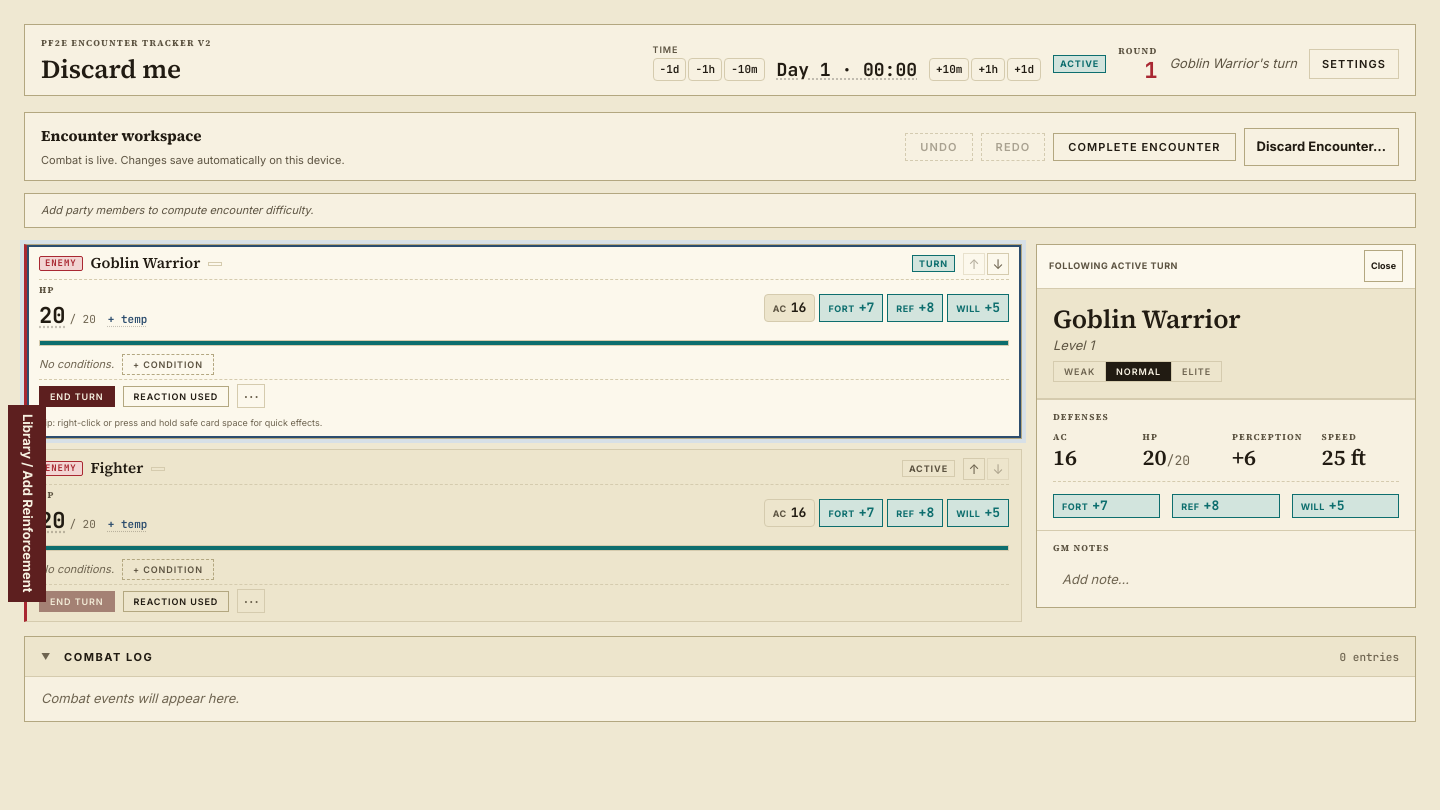
it: encounter discard flow › confirmed discard resets the active state and clears active persistence
Check: the heading "Discard me" is shown, box x1=41 y1=50 x2=181 y2=86
Step 1. Click the button "Discard Encounter…" → (1321, 147), box x1=1244 y1=128 x2=1399 y2=166
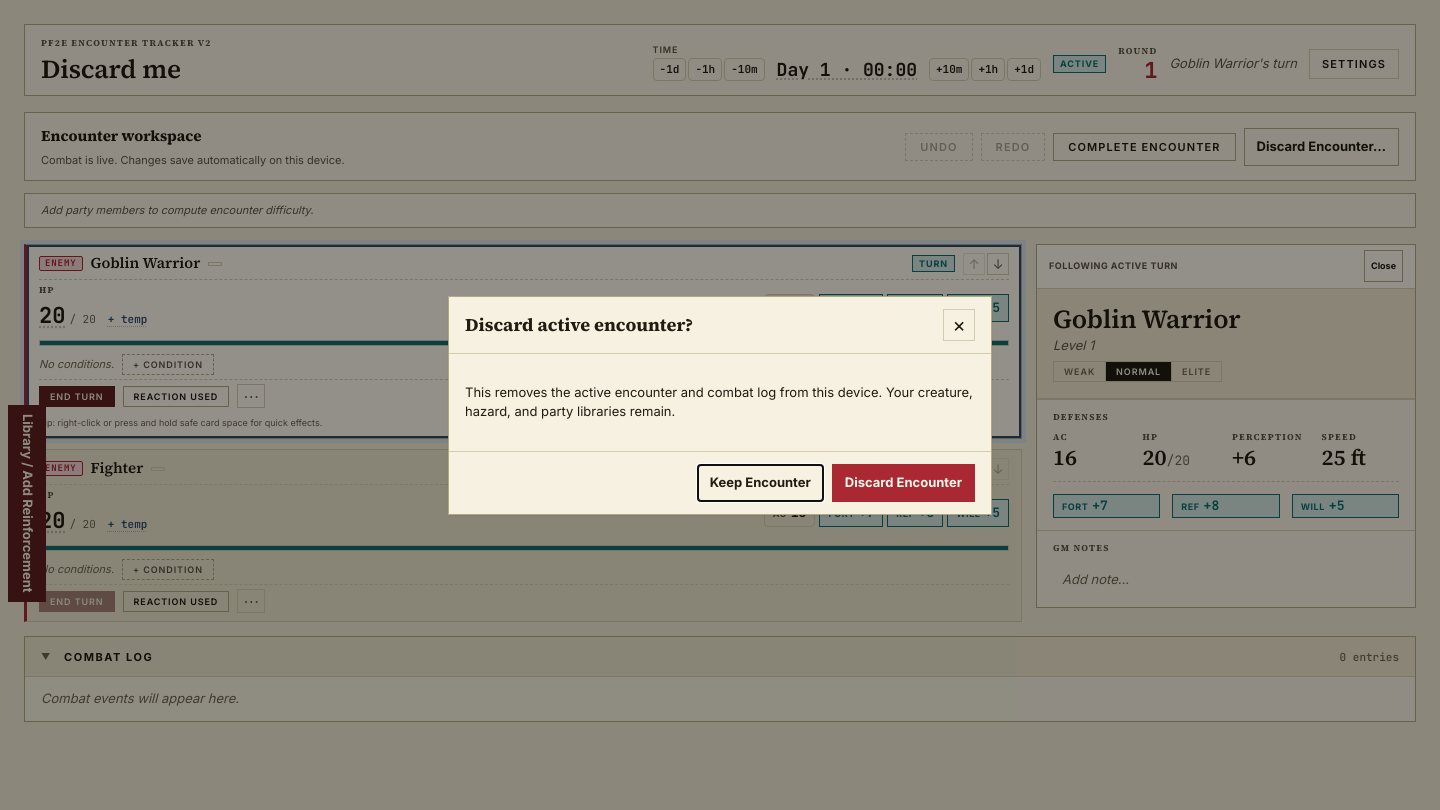
Step 2. Click the button "Discard Encounter" → (903, 482), box x1=832 y1=464 x2=975 y2=502
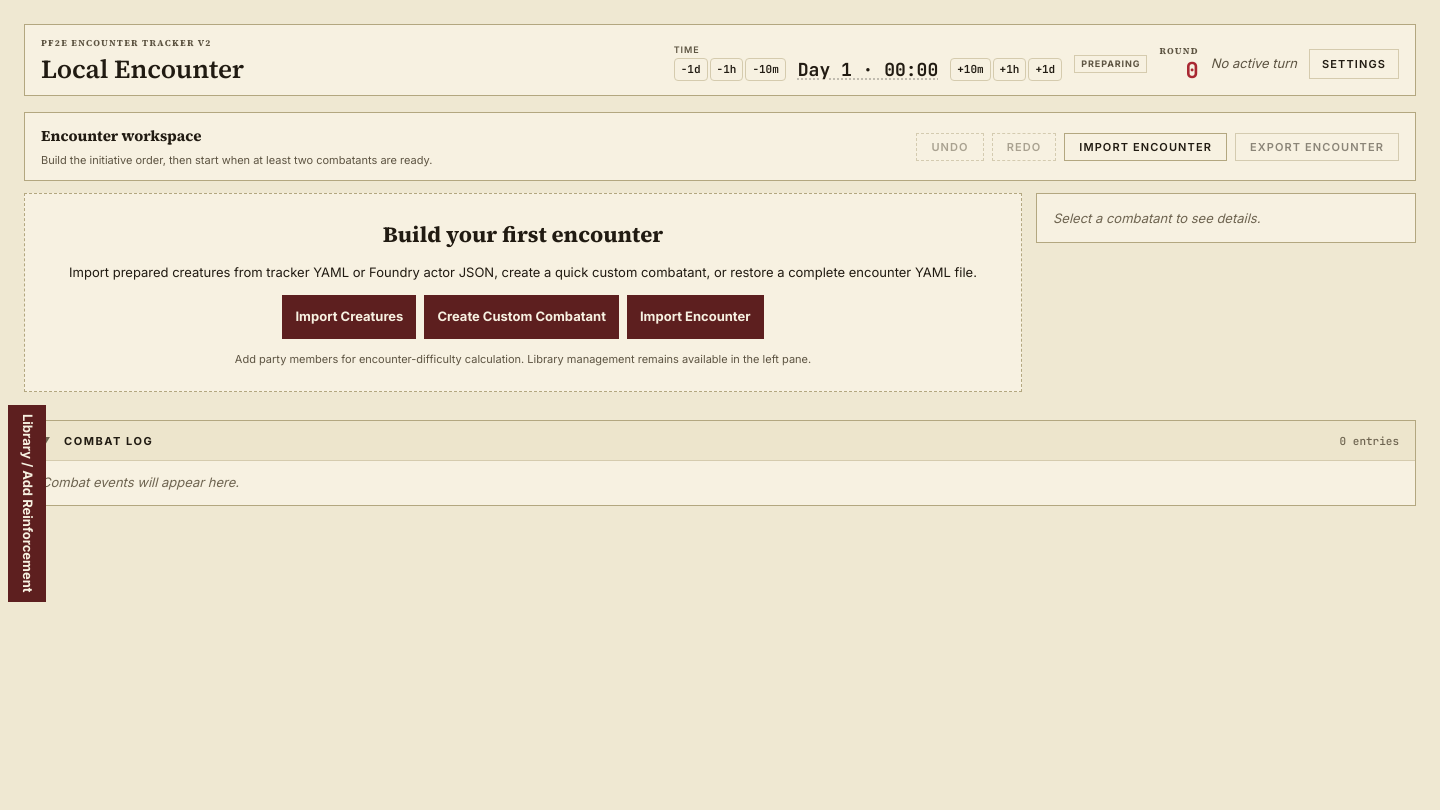
Check: the heading "Discard me" is gone
